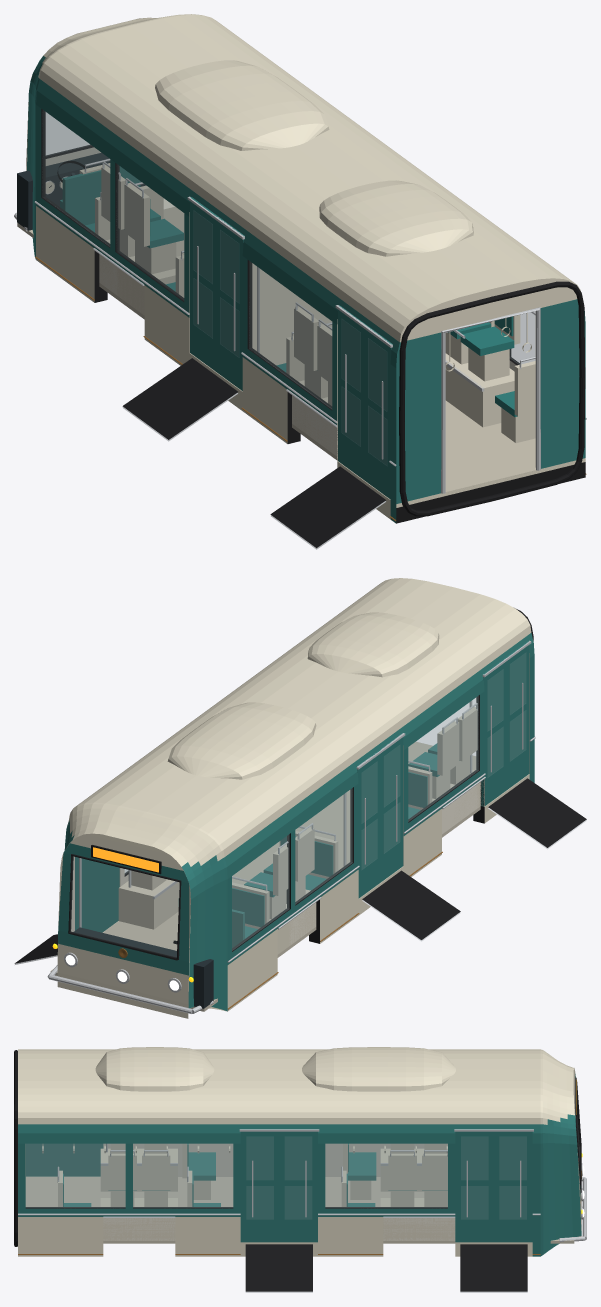
File: carrow_tram_front.glb
3 renders of one model, top to bottom at view 1: azimuth 30°, elevation 25°; view 2: azimuth 150°, elevation 25°; view 3: azimuth 270°, elevation 25°, orthographic. The views are drawn at different scales.
Visible parts, largest first — view 1: endwall_B, fairings, side_L_2, roof_5, roof_0, roof_2, floor, side_L_1, glass_L_1_0, roof_3, glass_L_2_1, glass_L_2_0 (+36 smaller); view 2: nose, fairings, side_L_2, roof_5, glass_windscreen, roof_0, roof_2, side_L_1, glass_L_1_0, roof_3, floor, glass_L_2_0 (+32 smaller); view 3: side_R_0, fairings, nose, glass_R_1_0, side_R_1, roof_5, roof_0, glass_R_0_0, glass_R_0_1, roof_2, floor, door_R0_a (+40 smaller).
Boxes of the visible parts, x1,y1,x2,y2 form: endwall_B: [396, 278, 585, 523]; fairings: [155, 60, 473, 256]; side_L_2: [34, 79, 192, 365]; roof_5: [39, 14, 274, 122]; roof_0: [340, 234, 574, 342]; roof_2: [220, 146, 455, 254]; floor: [17, 207, 575, 503]; side_L_1: [241, 230, 340, 443]; glass_L_1_0: [249, 261, 331, 408]; roof_3: [160, 102, 393, 210]; glass_L_2_1: [42, 110, 109, 246]; glass_L_2_0: [116, 164, 183, 300]; nose: [47, 802, 227, 1018]; fairings: [167, 612, 439, 779]; side_L_2: [224, 762, 359, 1011]; roof_5: [75, 765, 275, 856]; glass_windscreen: [70, 857, 178, 956]; roof_0: [332, 578, 531, 669]; roof_2: [230, 653, 428, 744]; side_L_1: [400, 669, 485, 876]; glass_L_1_0: [408, 696, 478, 821]; roof_3: [178, 690, 377, 781]; floor: [50, 741, 480, 1011]; glass_L_2_0: [295, 788, 352, 904]; side_R_0: [18, 1124, 240, 1256]; fairings: [95, 1047, 455, 1091]; nose: [540, 1049, 586, 1256]; glass_R_1_0: [325, 1144, 447, 1207]; side_R_1: [318, 1124, 455, 1256]; roof_5: [453, 1049, 540, 1124]; roof_0: [18, 1049, 104, 1124]; glass_R_0_0: [26, 1144, 125, 1207]; glass_R_0_1: [133, 1144, 232, 1207]; roof_2: [192, 1049, 279, 1124]; floor: [25, 1177, 574, 1243]; door_R0_a: [240, 1129, 279, 1242].
Size of the model in its own units: 4.45 by 3.1 by 9.21.
